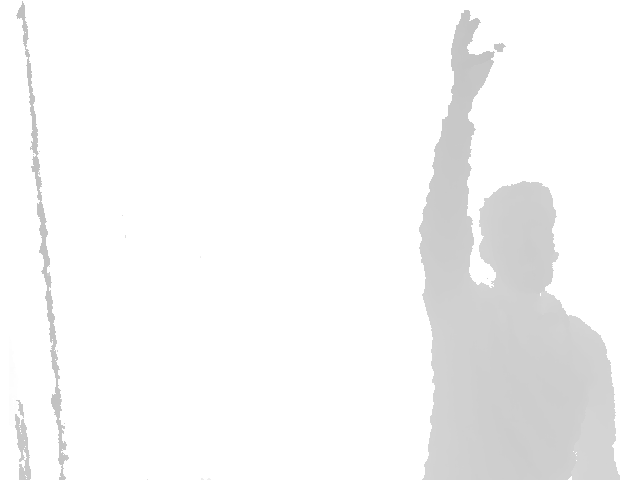hand: (451, 9, 507, 107)
head: (477, 180, 559, 289)
person: (417, 8, 620, 480)
